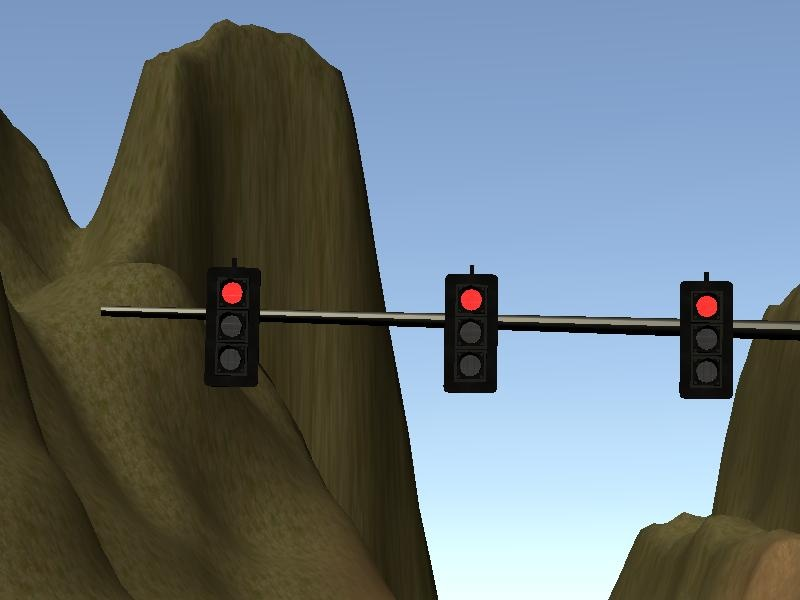red: (441, 266, 506, 402), (199, 258, 263, 389), (676, 272, 738, 406)
